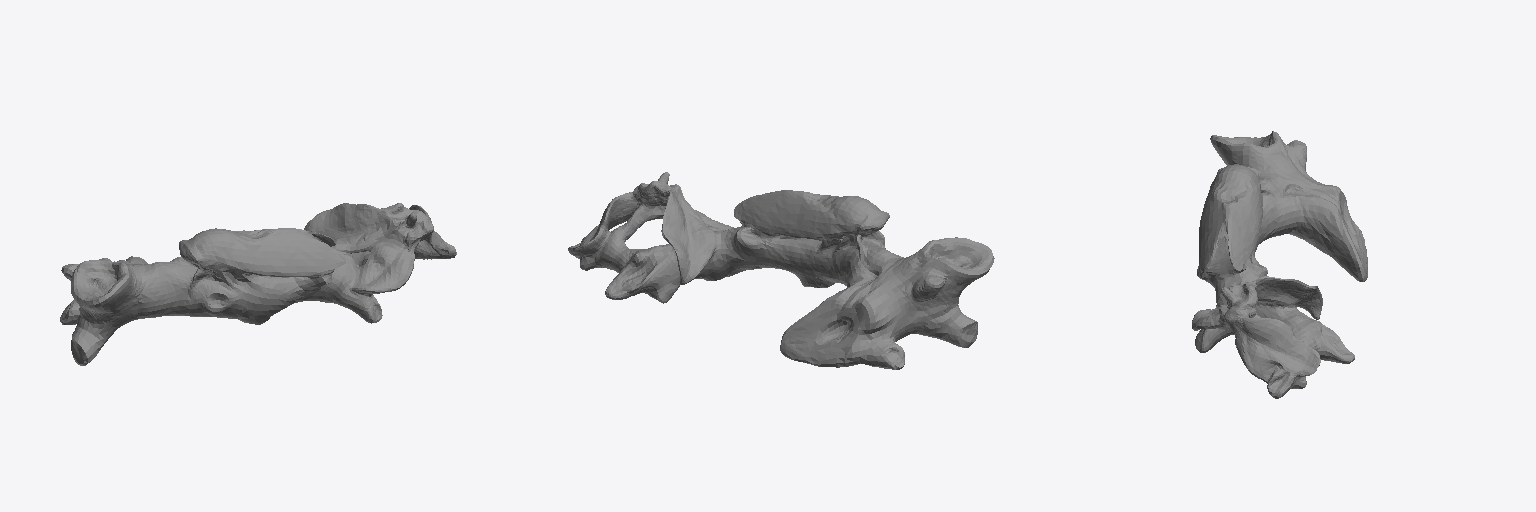
3 renders of one model, left to right at view 1: azimuth 30°, elevation 25°; view 2: azimuth 150°, elevation 25°; view 3: azimuth 270°, elevation 25°, orthographic.
Parts seen in each view (by area): view 1: SZB_YS_50; view 2: SZB_YS_50; view 3: SZB_YS_50.
Part boxes in pixels (left/top/right/bottom): SZB_YS_50: left=60, top=203, right=456, bottom=365; SZB_YS_50: left=568, top=172, right=994, bottom=369; SZB_YS_50: left=1192, top=131, right=1367, bottom=398.
Bounding box in the file's own units: 0.1492 × 0.0406 × 0.0574.